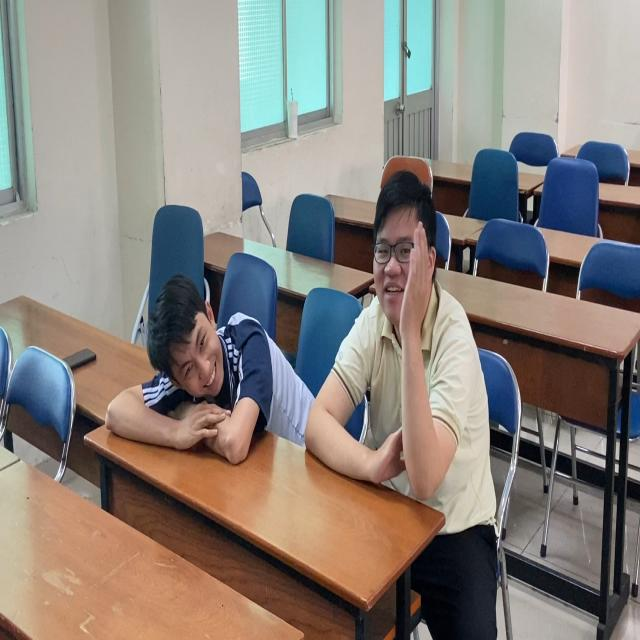raise_hand: (310, 165, 486, 500)
